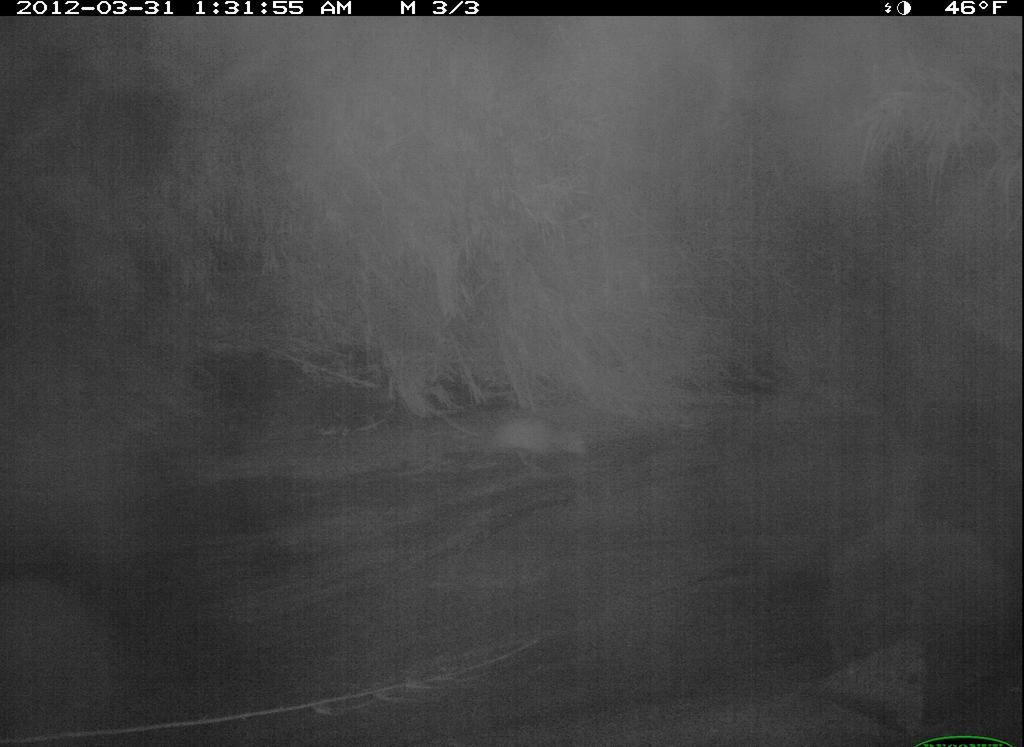opossum: (462, 409, 596, 477)
